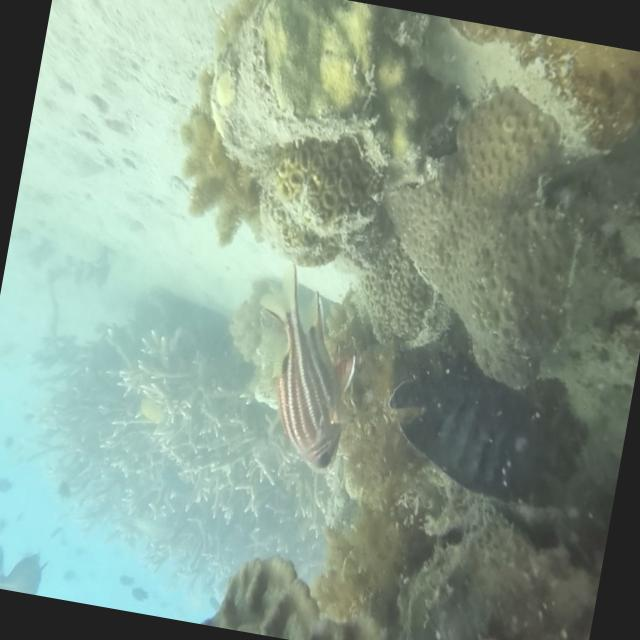Asker Baligi: (232, 258, 374, 476)
